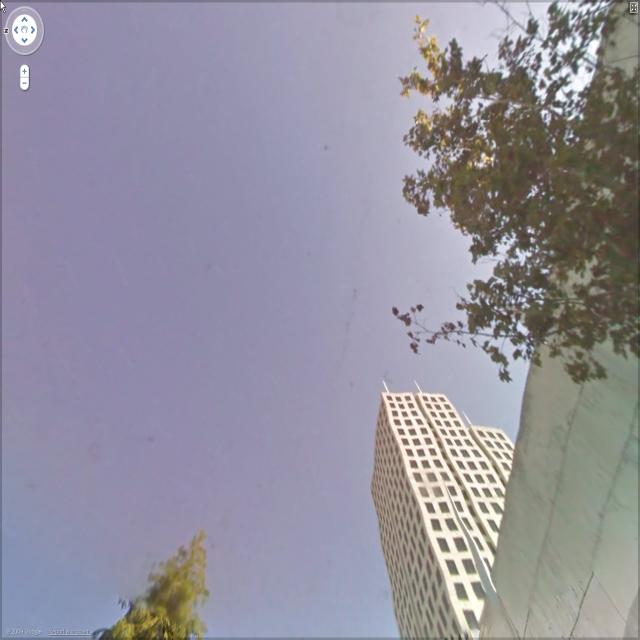b_1: (475, 357, 640, 627), (360, 386, 506, 632)
b_2: (515, 2, 637, 371)
